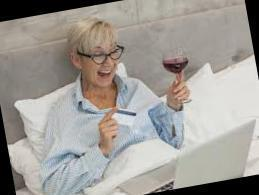Drunk: (84, 39, 119, 87)
